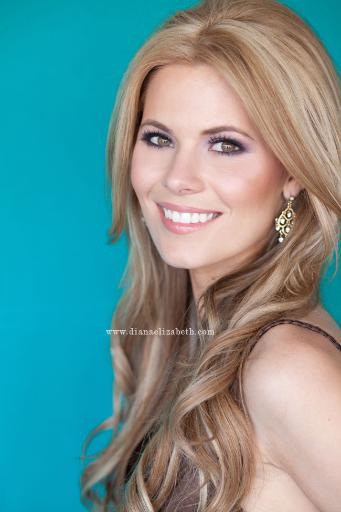left_eye: (208, 137, 250, 163)
left_lip_corner: (218, 208, 227, 222)
right_eye: (143, 134, 175, 152)
right_lip_corner: (153, 199, 162, 212)
